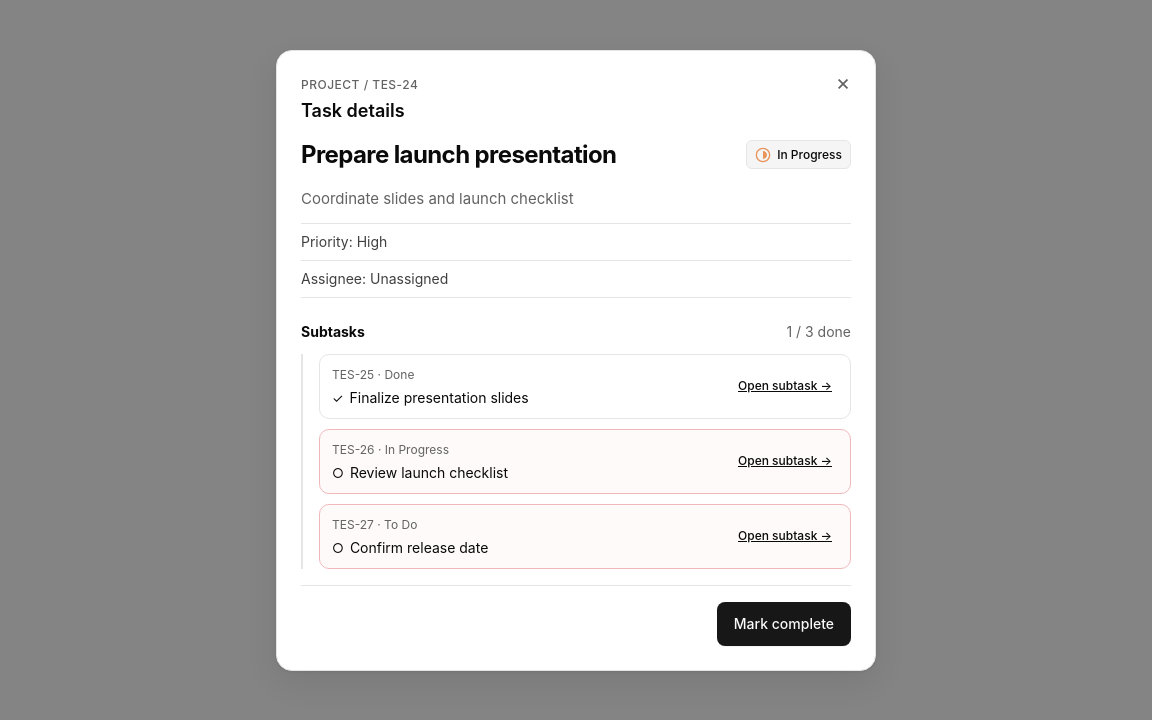
ParentTaskDetailsModal › navigates to focused subtask view and allows completing it
Note: Click Open subtask on sub-2
What coordinates should you click on to do the following:
click the button with test id "open-subtask-sub-2"
I would click on:
 (785, 461)
Its box is [732,447,838,475].
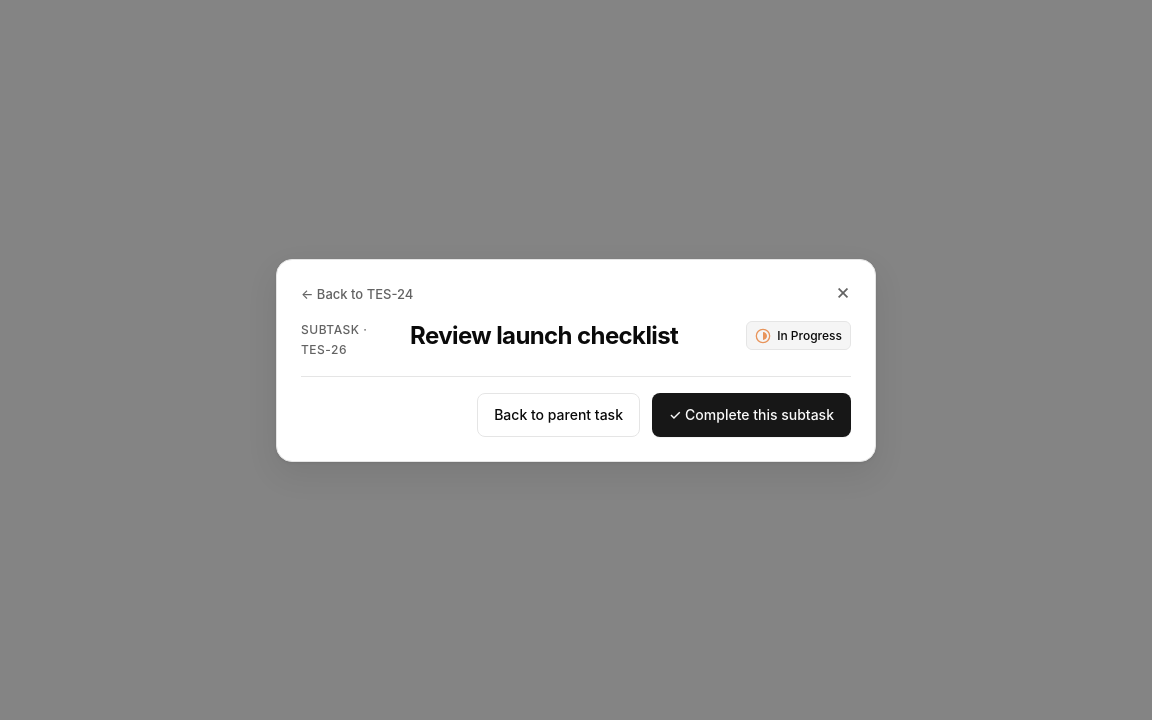
Expected: the element with test id "subtask-detail-view-sub-2" is shown, [301,284,851,436]
Expected: the text "Subtask · TES-26" is shown, [301,322,367,356]
Note: Click complete subtask
What coordinates should you click on to do the following:
click the button with test id "complete-subtask-btn"
I would click on:
 (752, 414)
Its box is [652,392,851,436].
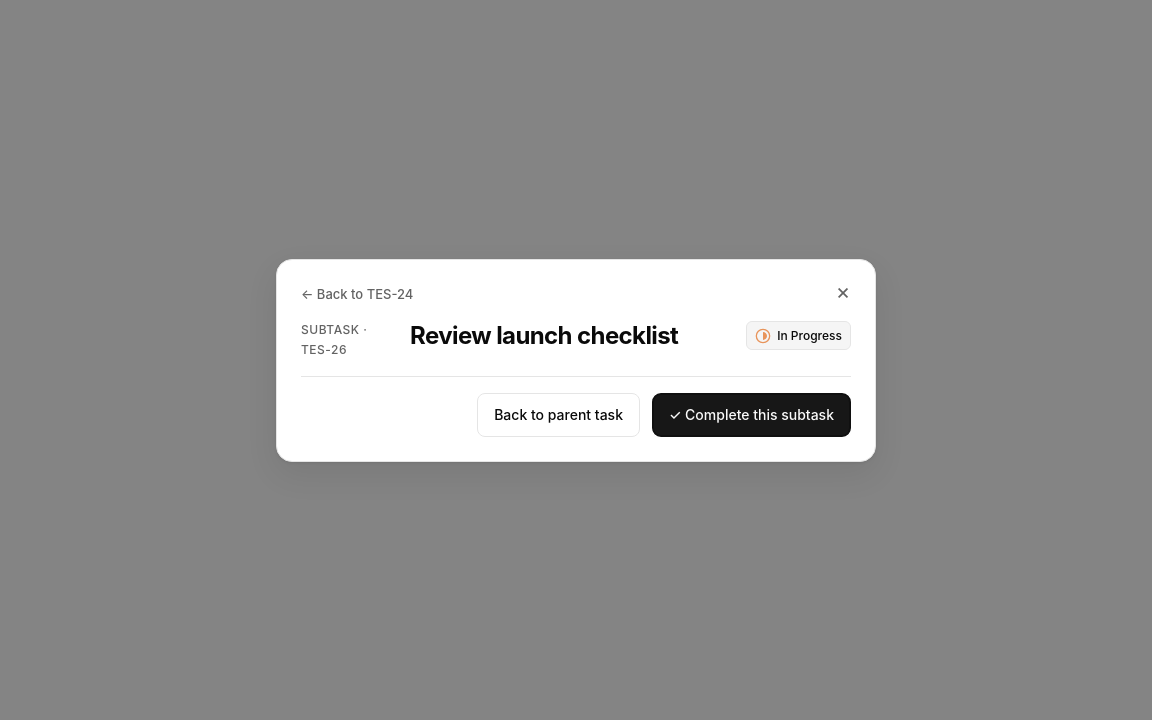
Note: Click back to parent
What coordinates should you click on to do the following:
click the button with test id "back-to-parent-btn"
I would click on:
 (334, 294)
Its box is [301,284,851,304].
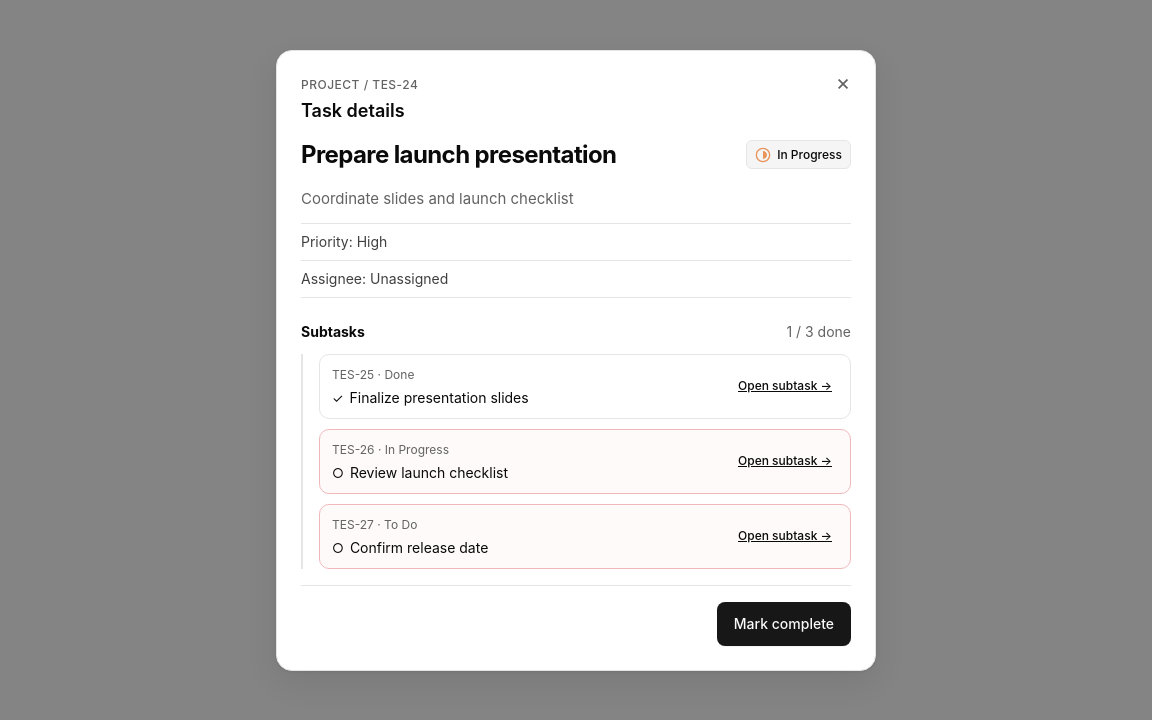
Expected: the element with test id "subtask-detail-view-sub-2" is gone
